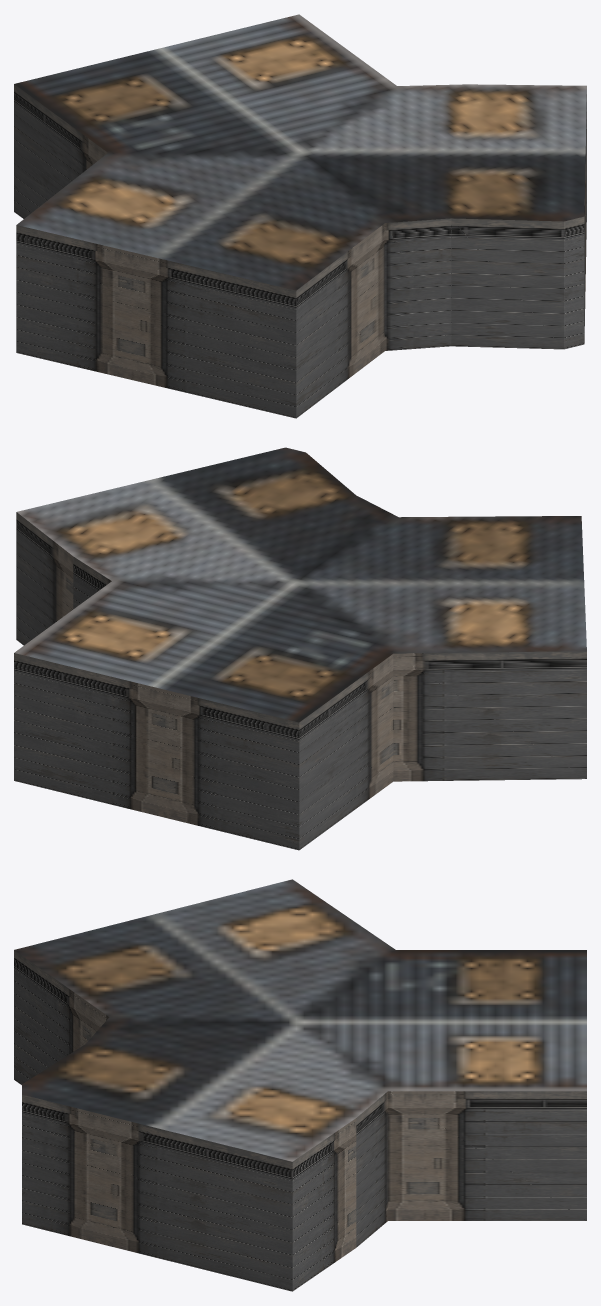
Rendered from hangar_light_a_21.glb.
The picture shows the model from 3 angles, top to bottom: view 1: azimuth 30°, elevation 25°; view 2: azimuth 150°, elevation 25°; view 3: azimuth 270°, elevation 25°; orthographic projection.
Parts seen in each view (by area): view 1: buildings/saxarba/hangar_light/hangar_light_a_21; view 2: buildings/saxarba/hangar_light/hangar_light_a_21; view 3: buildings/saxarba/hangar_light/hangar_light_a_21.
Boxes of the visible parts, x1,y1,x2,y2 form: buildings/saxarba/hangar_light/hangar_light_a_21: (14,14,586,418); buildings/saxarba/hangar_light/hangar_light_a_21: (14,447,586,850); buildings/saxarba/hangar_light/hangar_light_a_21: (14,879,586,1291).
Bounding box in the file's own units: 84 × 18 × 72.
